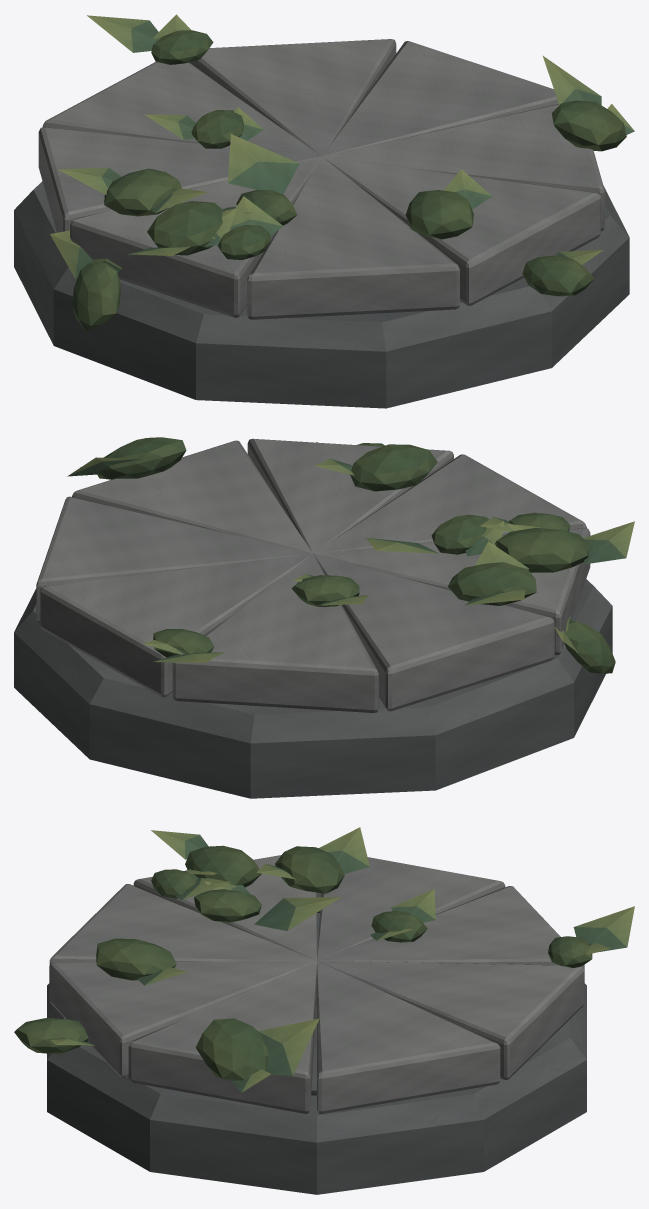
File: forest_shrine_plinth.glb
The picture shows the model from 3 angles, top to bottom: view 1: azimuth 30°, elevation 25°; view 2: azimuth 150°, elevation 25°; view 3: azimuth 270°, elevation 25°; orthographic projection. The views are drawn at different scales.
Visible parts, largest first — view 1: Shrine stone pedestal, Radial shrine paving stone.005, Radial shrine paving stone.006, Radial shrine paving stone.001, Radial shrine paving stone, Radial shrine paving stone.007, Radial shrine paving stone.004, Radial shrine paving stone.003, Radial shrine paving stone.002, Woodland shared moss cushion.044, Woodland shared moss cushion.042, Woodland shared curved ivy leaf.117 (+15 smaller); view 2: Shrine stone pedestal, Radial shrine paving stone.003, Radial shrine paving stone.002, Radial shrine paving stone.001, Radial shrine paving stone, Radial shrine paving stone.007, Radial shrine paving stone.006, Radial shrine paving stone.005, Radial shrine paving stone.004, Woodland shared moss cushion.044, Woodland shared moss cushion.041, Woodland shared moss cushion.039 (+13 smaller); view 3: Shrine stone pedestal, Radial shrine paving stone, Radial shrine paving stone.001, Radial shrine paving stone.006, Radial shrine paving stone.007, Radial shrine paving stone.002, Radial shrine paving stone.005, Radial shrine paving stone.003, Radial shrine paving stone.004, Woodland shared moss cushion.042, Woodland shared moss cushion.041, Woodland shared moss cushion.039 (+12 smaller).
Boxes of the visible parts, box(x1,y1,x2,y2) form: Shrine stone pedestal: box(14, 181, 629, 408); Radial shrine paving stone.005: box(247, 156, 459, 319); Radial shrine paving stone.006: box(322, 156, 600, 305); Radial shrine paving stone.001: box(190, 39, 396, 155); Radial shrine paving stone: box(322, 41, 558, 155); Radial shrine paving stone.007: box(322, 104, 604, 231); Radial shrine paving stone.004: box(70, 156, 321, 317); Radial shrine paving stone.003: box(38, 127, 320, 232); Radial shrine paving stone.002: box(42, 62, 321, 156); Woodland shared moss cushion.044: box(147, 201, 224, 255); Woodland shared moss cushion.042: box(551, 100, 626, 151); Woodland shared curved ivy leaf.117: box(227, 134, 299, 193); Shrine stone pedestal: box(14, 579, 612, 798); Radial shrine paving stone.003: box(314, 553, 554, 711); Radial shrine paving stone.002: box(172, 553, 378, 712); Radial shrine paving stone.001: box(39, 553, 312, 697); Radial shrine paving stone: box(36, 496, 312, 623); Radial shrine paving stone.007: box(72, 440, 312, 553); Radial shrine paving stone.006: box(247, 438, 453, 553); Radial shrine paving stone.005: box(314, 454, 586, 553); Radial shrine paving stone.004: box(313, 528, 590, 655); Woodland shared moss cushion.044: box(495, 527, 589, 572); Woodland shared moss cushion.041: box(350, 444, 437, 491); Woodland shared moss cushion.039: box(448, 562, 536, 605); Shrine stone pedestal: box(47, 892, 586, 1194); Radial shrine paving stone: box(317, 961, 500, 1113); Radial shrine paving stone.001: box(317, 960, 584, 1079); Radial shrine paving stone.006: box(49, 960, 316, 1077); Radial shrine paving stone.007: box(128, 961, 316, 1113); Radial shrine paving stone.002: box(318, 886, 584, 968); Radial shrine paving stone.005: box(49, 884, 315, 964); Radial shrine paving stone.003: box(317, 857, 505, 960); Radial shrine paving stone.004: box(133, 855, 316, 960); Woodland shared moss cushion.042: box(195, 1018, 268, 1080); Woodland shared moss cushion.041: box(96, 938, 176, 980); Woodland shared moss cushion.039: box(275, 846, 344, 893).
Bounding box in the file's own units: 1.61 × 0.4786 × 1.73.
6 materials, 5 textured.
